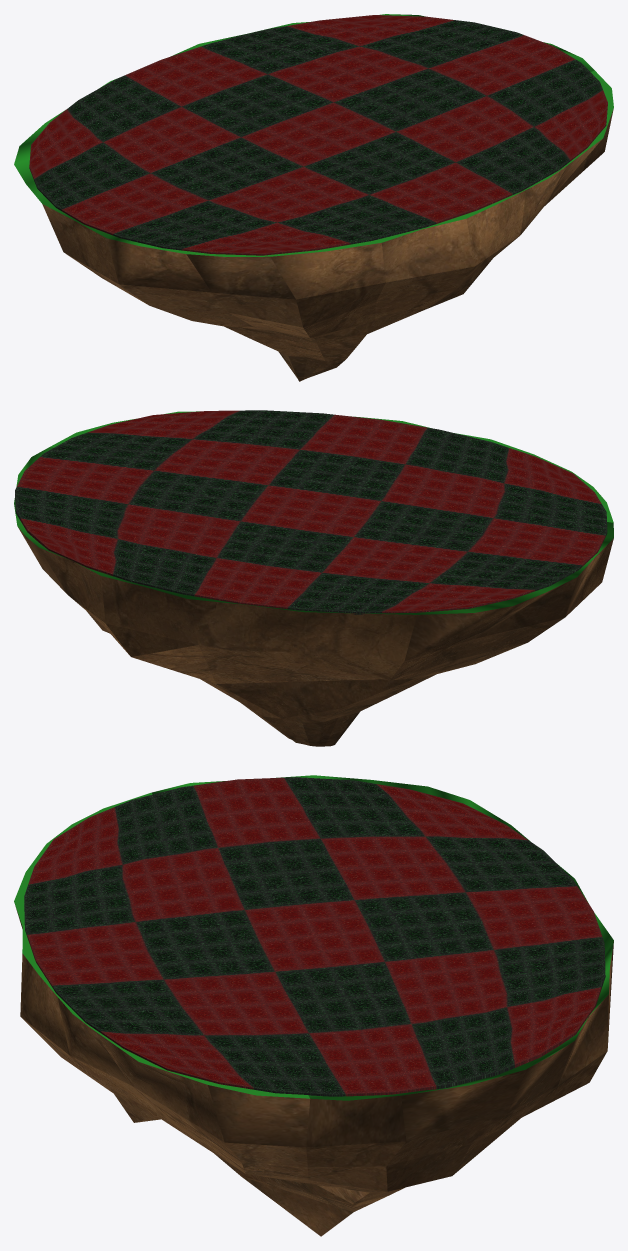
The model's file is parco_p4.fbx.
The picture shows the model from 3 angles, top to bottom: view 1: azimuth 30°, elevation 25°; view 2: azimuth 150°, elevation 25°; view 3: azimuth 270°, elevation 25°; orthographic projection. The views are drawn at different scales.
Visible parts, largest first — view 1: Plane, ground.001; view 2: Plane, ground.001; view 3: Plane, ground.001.
Part boxes in pixels (<box>): Plane: <box>29,15,607,255</box>; ground.001: <box>14,14,613,381</box>; Plane: <box>15,410,607,614</box>; ground.001: <box>14,411,613,746</box>; Plane: <box>24,777,605,1096</box>; ground.001: <box>14,775,613,1236</box>.
Bounding box in the file's own units: 2243 × 927 × 1747.
Materials: 3 (2 with a texture image).
